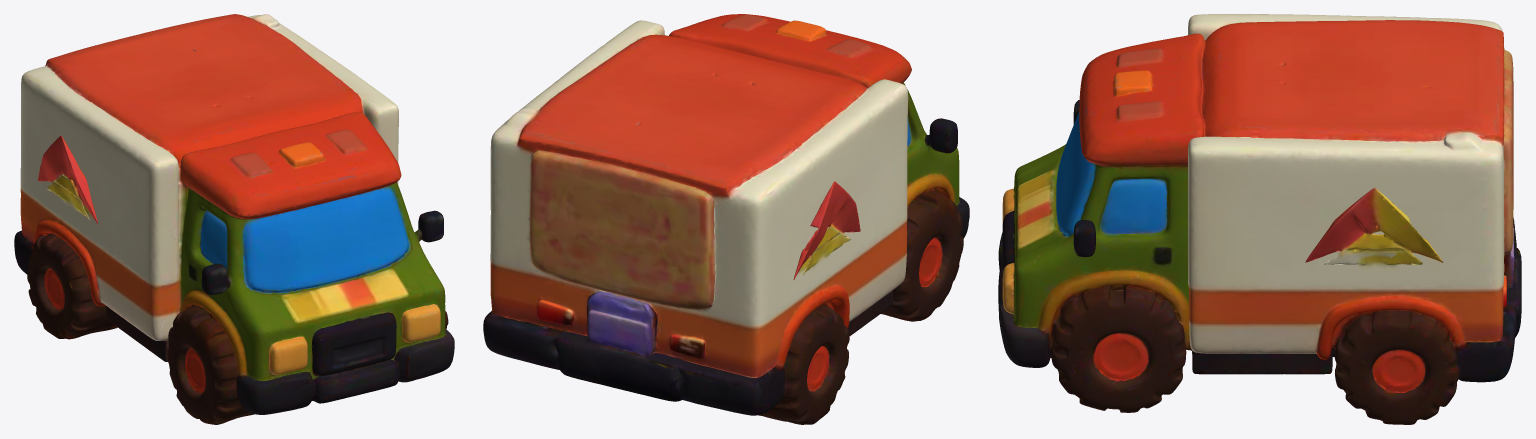
The model's file is van_00001.glb.
3 renders of one model, left to right at view 1: azimuth 30°, elevation 25°; view 2: azimuth 150°, elevation 25°; view 3: azimuth 270°, elevation 25°, orthographic. The views are drawn at different scales.
Bounding box in the file's own units: 0.6978 × 0.5861 × 1.
1 material, 1 textured.
